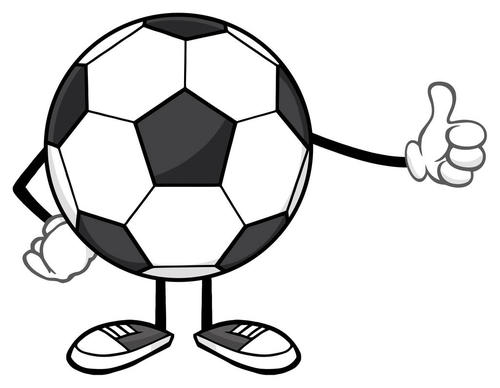football: (54, 12, 311, 284)
